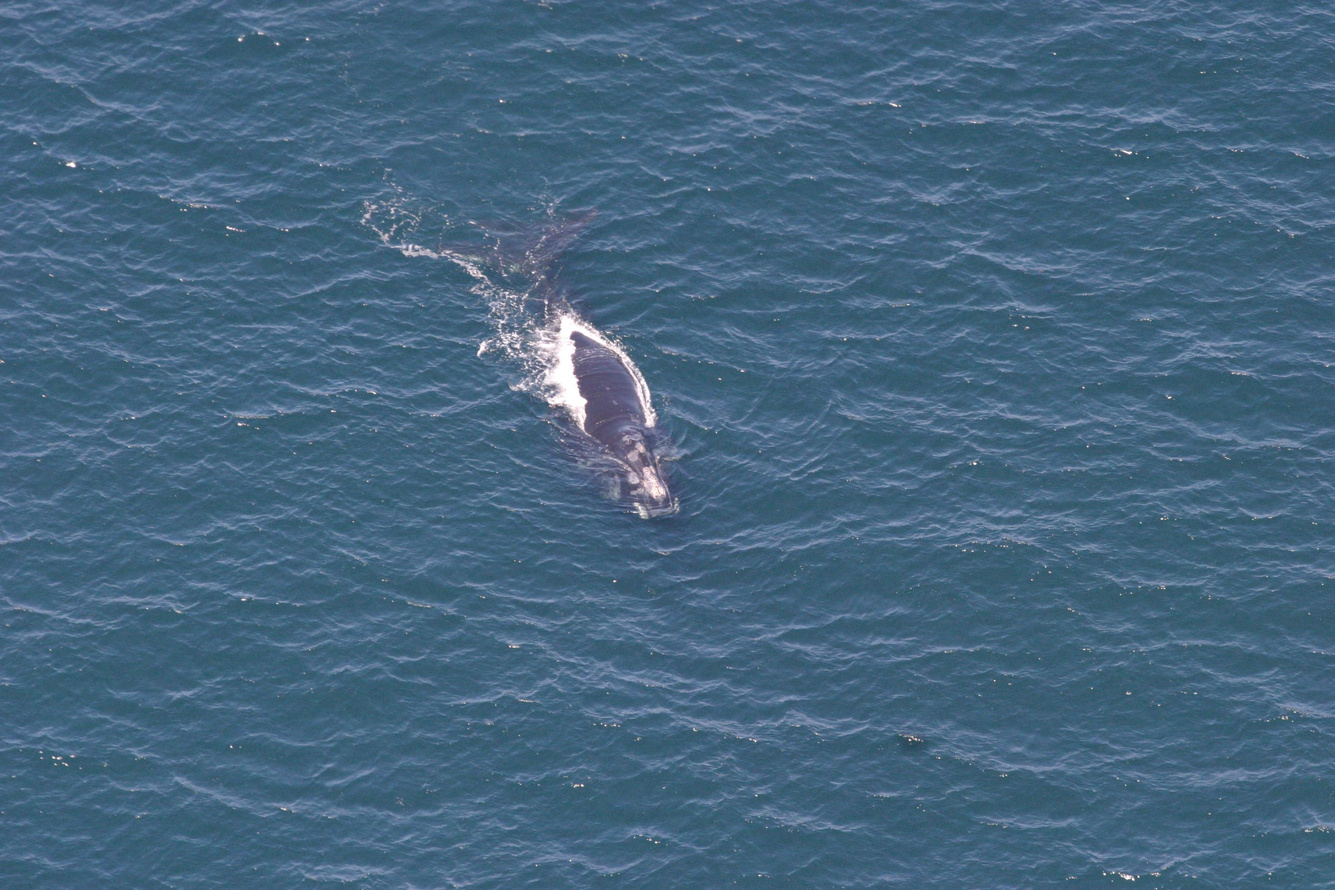whale: (442, 203, 689, 530)
